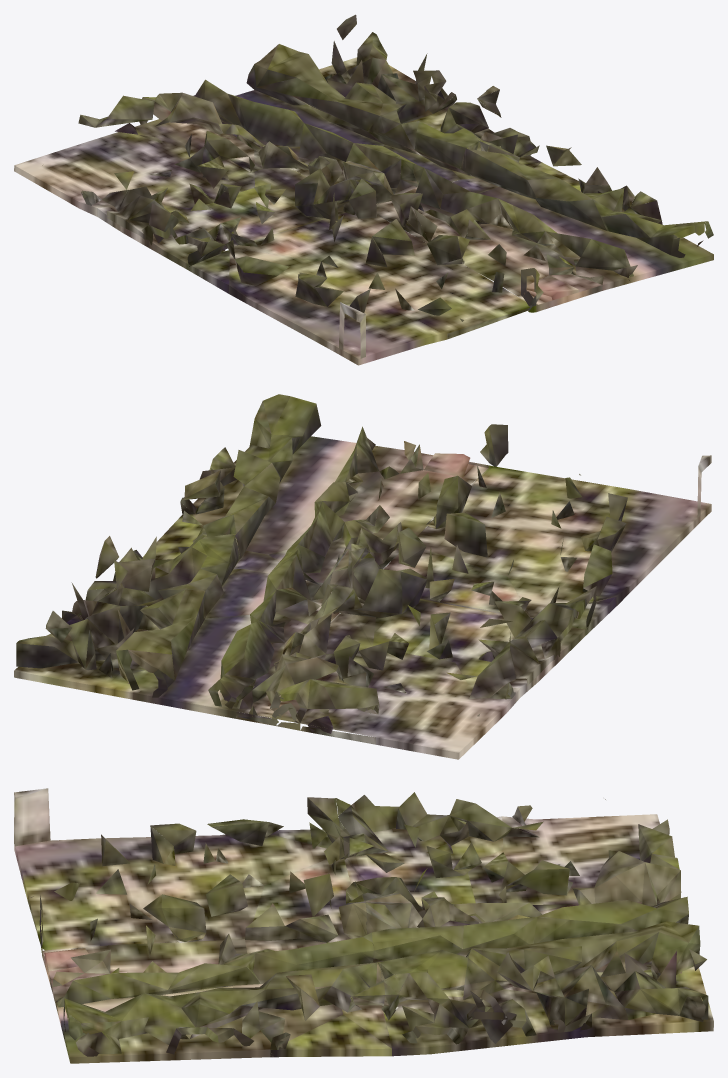
3 views of the same model, one above another, from view 1: azimuth 30°, elevation 25°; view 2: azimuth 150°, elevation 25°; view 3: azimuth 270°, elevation 25° (orthographic). The views are drawn at different scales.
Visible parts, largest first — view 1: Mesh_0; view 2: Mesh_0; view 3: Mesh_0.
Part boxes in pixels (x1,y1,x2,y2): Mesh_0: (14,14,713,365); Mesh_0: (14,394,711,759); Mesh_0: (14,788,713,1063).
Bounding box in the file's own units: 266 × 40.89 × 330.
2 materials, 2 textured.
